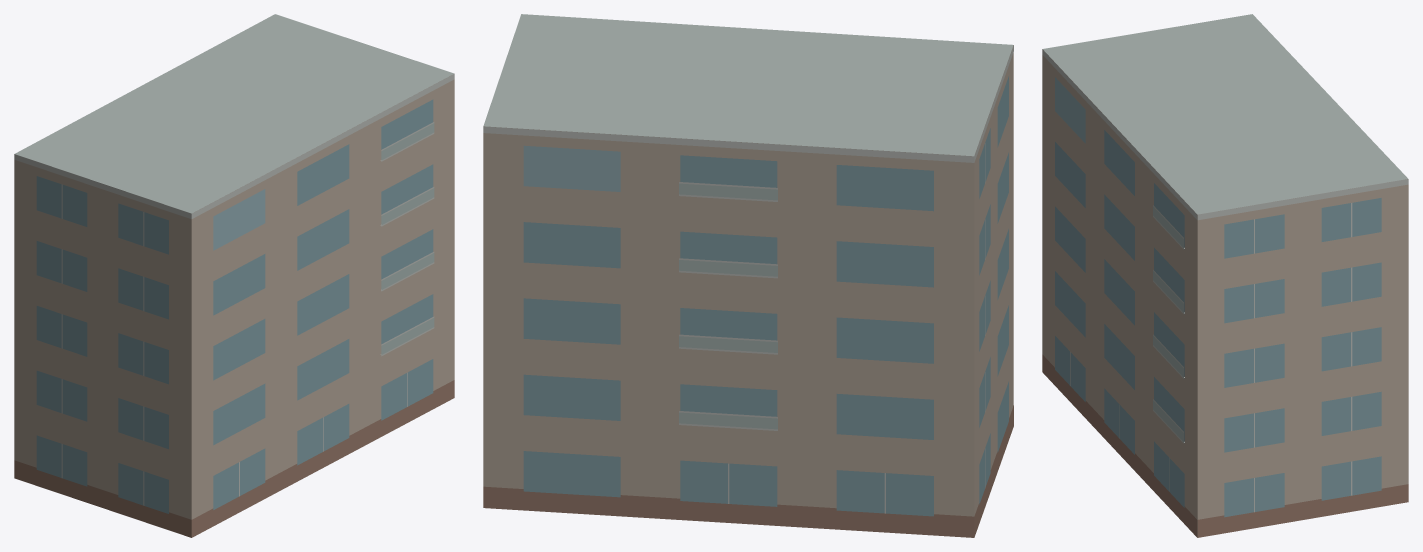
Rendered from survey-upis-32651487.glb.
3 renders of one model, left to right at view 1: azimuth 30°, elevation 25°; view 2: azimuth 150°, elevation 25°; view 3: azimuth 270°, elevation 25°, orthographic. The views are drawn at different scales.
Visible parts, largest first — view 1: survey-upis-32651487.tmp; view 2: survey-upis-32651487.tmp; view 3: survey-upis-32651487.tmp.
Boxes of the visible parts, x1,y1,x2,y2 form: survey-upis-32651487.tmp: (14, 14, 454, 537); survey-upis-32651487.tmp: (483, 14, 1013, 537); survey-upis-32651487.tmp: (1042, 14, 1408, 537).
Bounding box in the file's own units: 18.52 × 13.9 × 14.28.
